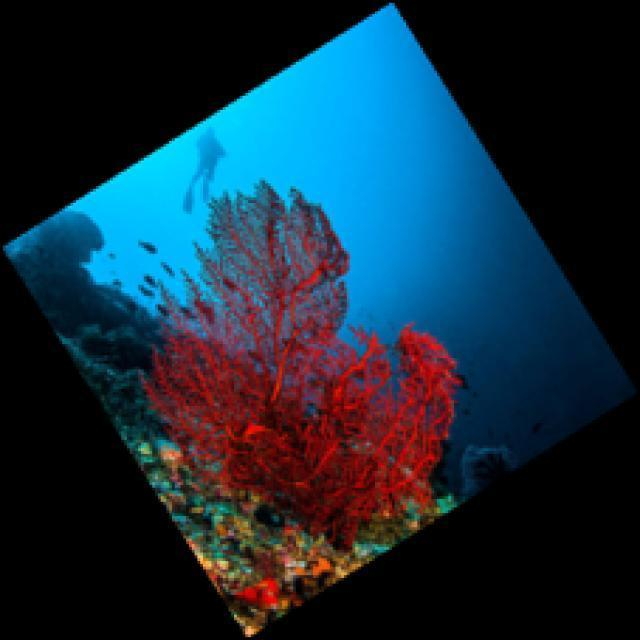Healthy: (141, 181, 466, 552)
